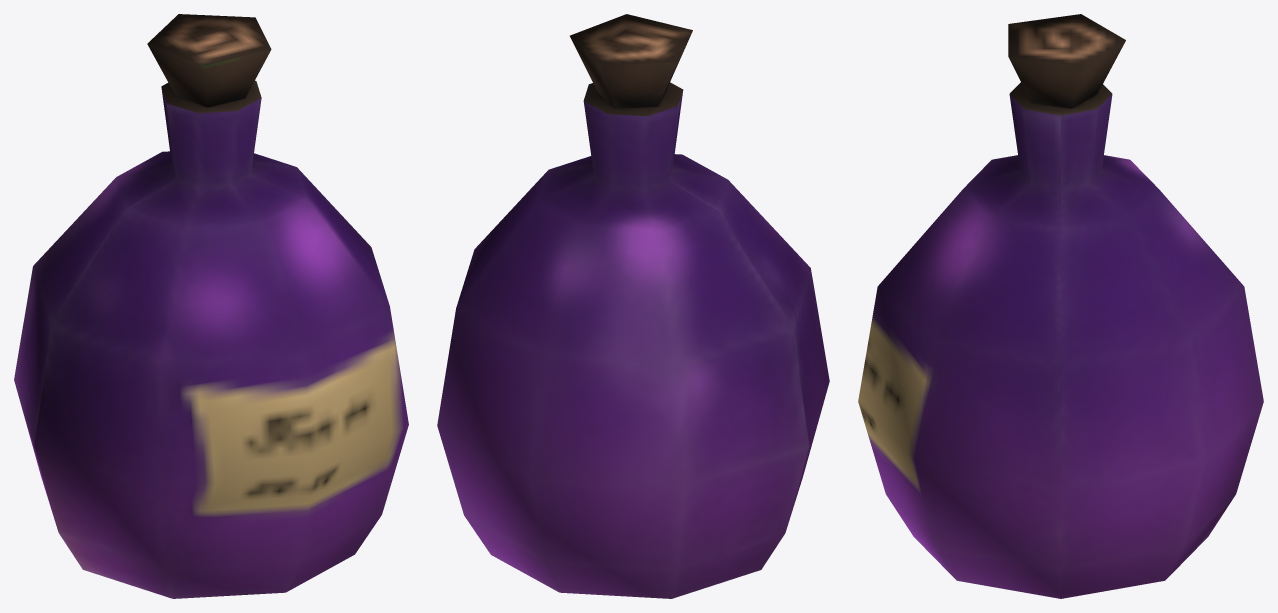
The picture shows the model from 3 angles, left to right: view 1: azimuth 30°, elevation 25°; view 2: azimuth 150°, elevation 25°; view 3: azimuth 270°, elevation 25°; orthographic projection.
Parts seen in each view (by area): view 1: Tube MODULO 02; view 2: Tube MODULO 02; view 3: Tube MODULO 02.
Boxes of the visible parts, left/top/right/bottom form: Tube MODULO 02: left=14, top=14, right=408, bottom=598; Tube MODULO 02: left=437, top=14, right=829, bottom=598; Tube MODULO 02: left=858, top=14, right=1263, bottom=598.
Bounding box in the file's own units: 190 × 257 × 190.
